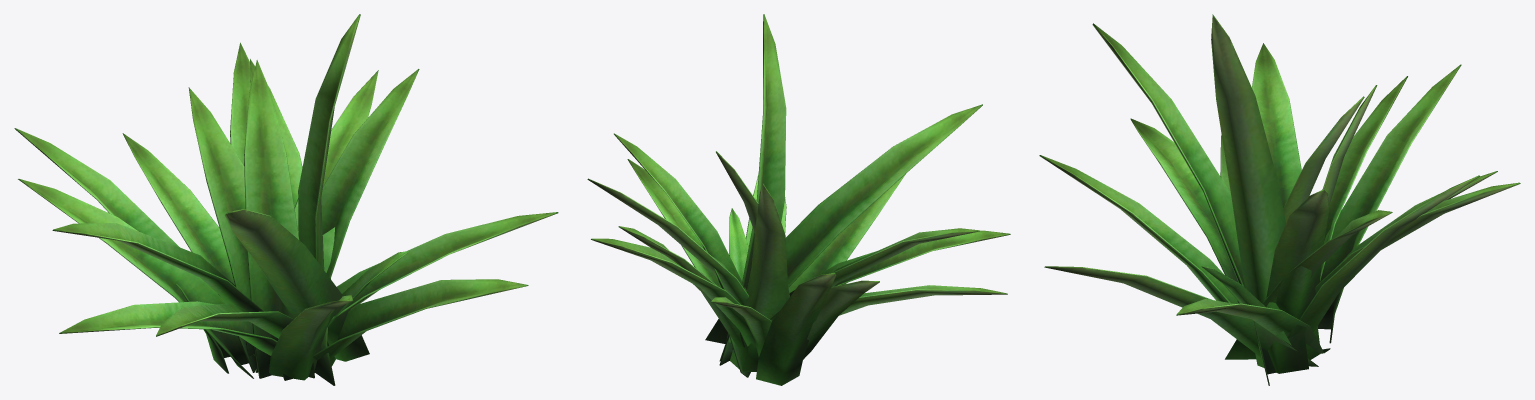
File: plant4.fbx
3 renders of one model, left to right at view 1: azimuth 30°, elevation 25°; view 2: azimuth 150°, elevation 25°; view 3: azimuth 270°, elevation 25°, orthographic. The views are drawn at different scales.
Visible parts, largest first — view 1: node_id30; view 2: node_id30; view 3: node_id30.
Part boxes in pixels (x1,y1,x2,y2): node_id30: (14, 14, 558, 385); node_id30: (587, 14, 1010, 385); node_id30: (1039, 14, 1520, 385).
Size of the model in its own units: 0.512 by 0.3848 by 0.4736.
Materials: 1 (1 with a texture image).
